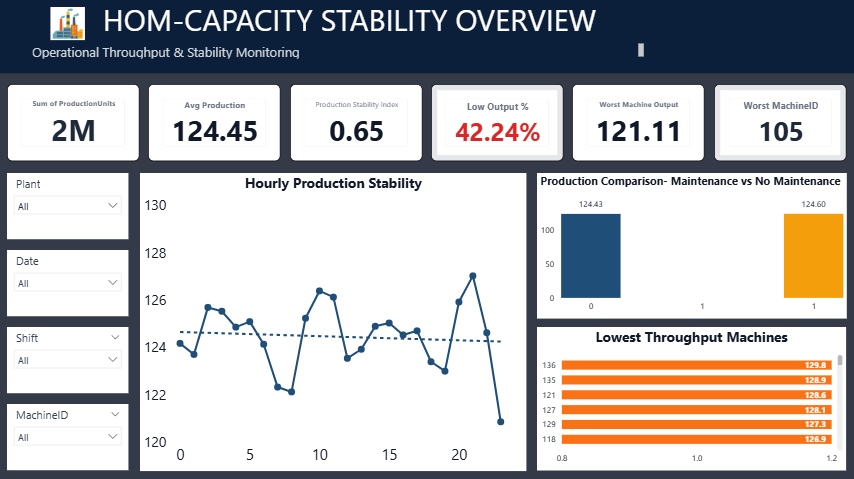

The page's visual inventory and layout, read from the dashboard file:
{"tool":"powerbi","page":{"name":"Executive Stability Overview ","canvas":[1280,720],"ordinal":0},"visuals":[{"type":"shape","box":[16,112,1248,592],"z":0},{"type":"cardVisual","title":"Total Production ","fields":{"Data":["Sum(HOM.ProductionUnits)"]},"box":[32,128,192,112],"z":1000},{"type":"cardVisual","title":"Avg Production ","fields":{"Data":["HOM.Avg Production"]},"box":[236.8,128,192,112],"z":2000},{"type":"cardVisual","title":"Worst Machine Output","fields":{"Data":["HOM.Worst Machine Output"]},"box":[851.2,128,192,112],"z":3000},{"type":"slicer","fields":{"Values":["HOM.Plant"]},"box":[32,256,176,96],"z":4000},{"type":"slicer","fields":{"Values":["HOM.Date"]},"box":[32,368,176,96],"z":5000},{"type":"slicer","fields":{"Values":["HOM.Shift"]},"box":[32,480,176,96],"z":6000},{"type":"slicer","fields":{"Values":["HOM.MachineID"]},"box":[32,592,176,96],"z":7000},{"type":"lineChart","title":"Hourly Production Stability ","fields":{"Y":["Avg(Sheet1.ProductionUnits)"],"Category":["HOM.Hour"]},"box":[224,256,560,432],"z":8000},{"type":"clusteredColumnChart","title":"Production Comparison- Maintenance vs No Maintenance","fields":{"Category":["HOM.MaintenanceFlag"],"Y":["Avg(HOM.ProductionUnits)"]},"box":[800,256,449,211],"z":9000},{"type":"clusteredBarChart","title":"Lowest Throughput Machines","fields":{"Category":["HOM.MachineID"],"Y":["Avg(HOM.ProductionUnits)"]},"box":[800,480,448,208],"z":10000},{"type":"image","box":[96,48,176,48],"z":11000},{"type":"image","box":[544,160,46,29],"z":14000},{"type":"textbox","box":[16,0,1248,112],"z":16000},{"type":"textbox","box":[64,64,896,32],"z":17000},{"type":"image","box":[48,16,144,48],"z":18000},{"type":"cardVisual","title":"Production Stability  Index","fields":{"Data":["HOM.Stability Index"]},"box":[441.6,128,192,112],"z":19000},{"type":"cardVisual","title":"Low Output %","fields":{"Data":["HOM.Low Output %"]},"box":[646.4,128,192,112],"z":20000},{"type":"cardVisual","title":"Worst Machine","fields":{"Data":["HOM.Worst Machine"]},"box":[1056,128,192,112],"z":21000}]}

Visuals, with their boxes in screenshot pixels (x1, y1, x2, y2), scaled from the page's 1280x720 canvas onto the 854x479 screenshot:
shape: detection(11, 75, 843, 468)
"Total Production " cardVisual: detection(21, 85, 149, 160)
"Avg Production " cardVisual: detection(158, 85, 286, 160)
"Worst Machine Output" cardVisual: detection(568, 85, 696, 160)
slicer - HOM.Plant: detection(21, 170, 139, 234)
slicer - HOM.Date: detection(21, 245, 139, 309)
slicer - HOM.Shift: detection(21, 319, 139, 383)
slicer - HOM.MachineID: detection(21, 394, 139, 458)
"Hourly Production Stability " lineChart: detection(149, 170, 523, 458)
"Production Comparison- Maintenance vs No Maintenance" clusteredColumnChart: detection(534, 170, 833, 311)
"Lowest Throughput Machines" clusteredBarChart: detection(534, 319, 833, 458)
image: detection(64, 32, 181, 64)
image: detection(363, 106, 394, 126)
textbox: detection(11, 0, 843, 75)
textbox: detection(43, 43, 640, 64)
image: detection(32, 11, 128, 43)
"Production Stability  Index" cardVisual: detection(295, 85, 423, 160)
"Low Output %" cardVisual: detection(431, 85, 559, 160)
"Worst Machine" cardVisual: detection(705, 85, 833, 160)
